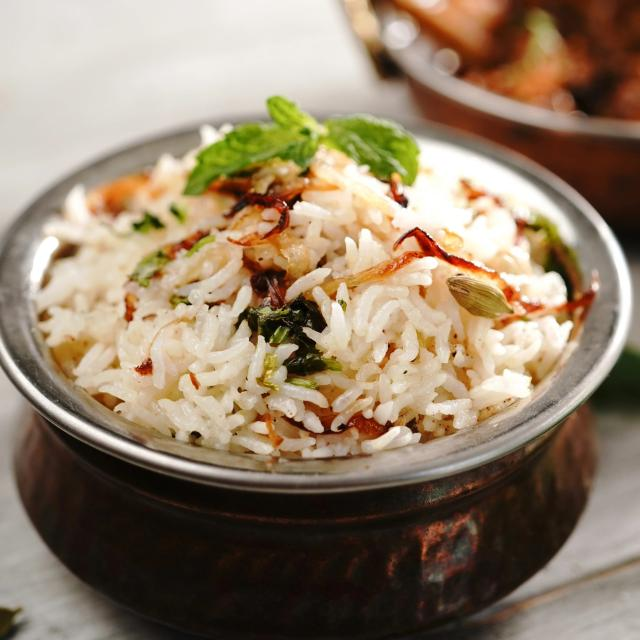nei satham: (23, 77, 568, 469)
